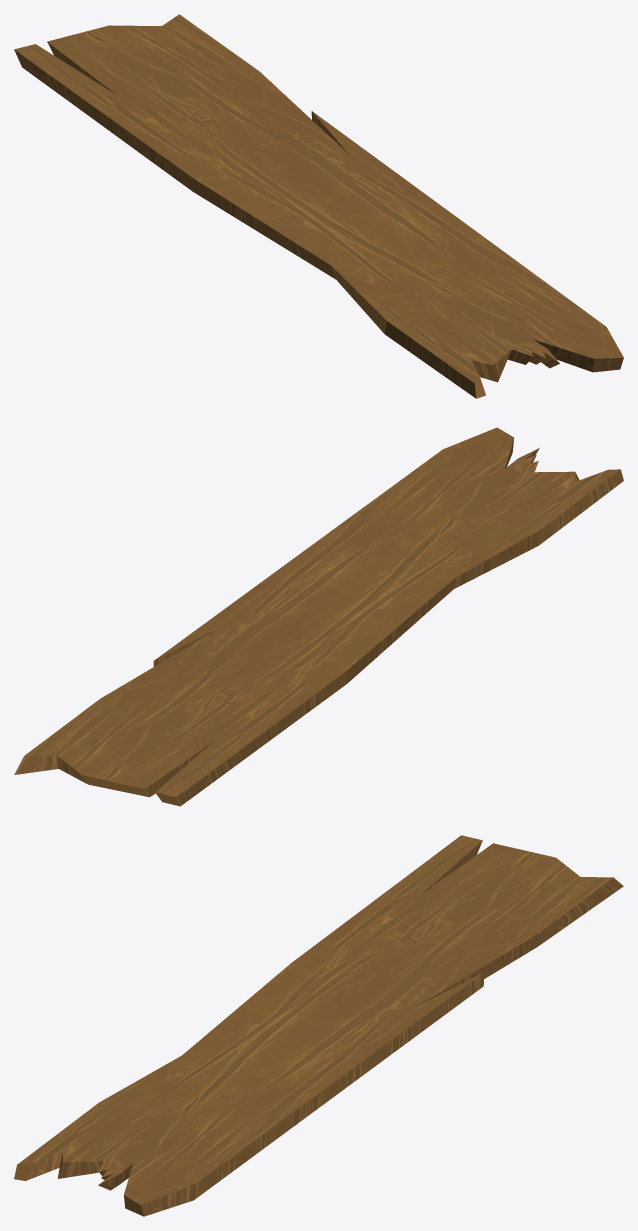
Rendered from Ocean_planks.glb.
3 renders of one model, top to bottom at view 1: azimuth 30°, elevation 25°; view 2: azimuth 150°, elevation 25°; view 3: azimuth 330°, elevation 25°, orthographic.
Parts seen in each view (by area): view 1: Cube; view 2: Cube; view 3: Cube.
Part boxes in pixels (left/top/right/bottom): Cube: left=14, top=14, right=623, bottom=398; Cube: left=14, top=427, right=623, bottom=806; Cube: left=14, top=835, right=623, bottom=1216.
Bounding box in the file's own units: 2.04 × 0.1765 × 10.25.
Materials: 1 (1 with a texture image).
